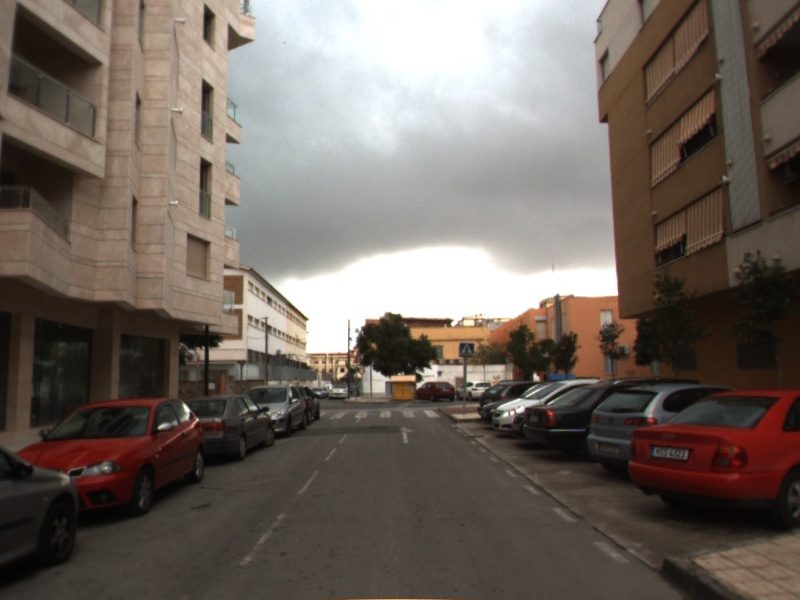STRAIGHT: (397, 424, 418, 445)
